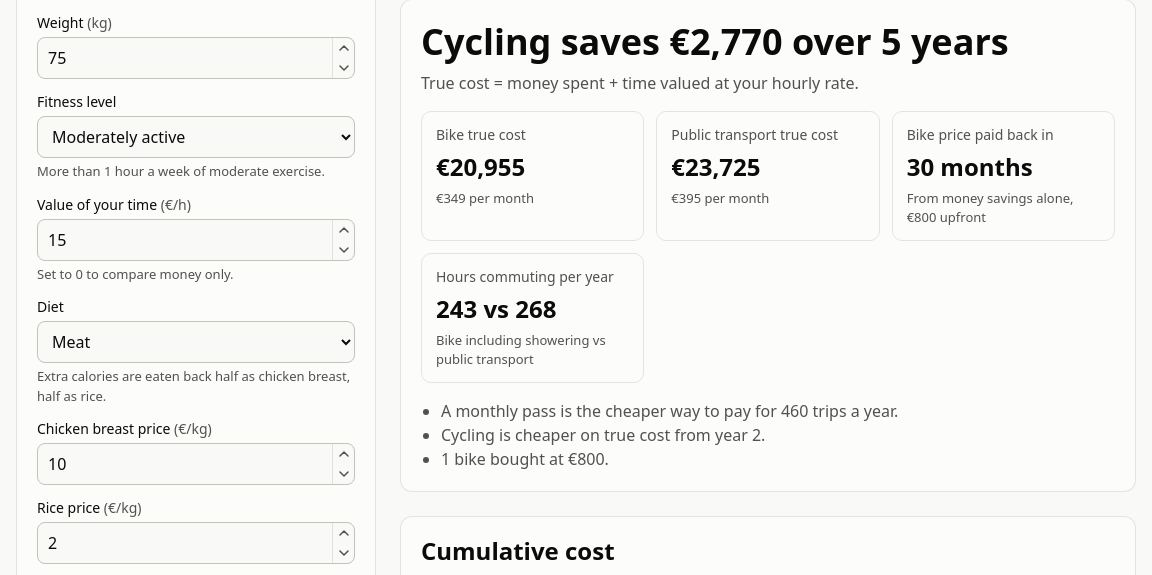
Test: App › prices extra food by the chosen diet
(page scrolled)
Select "Vegan" in the dropdown labelled "Diet": (196, 342) [37, 321, 355, 363]
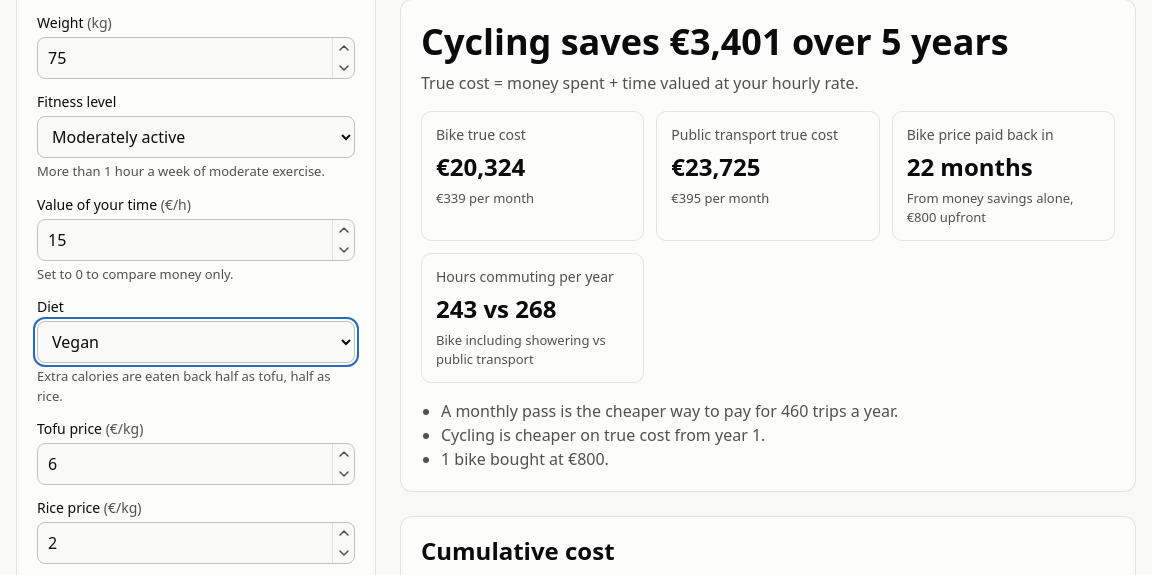
Expected: the heading "Cycling saves €3,401 over 5 years" is shown, [421, 17, 1009, 66]
Expected: the field labelled "Tofu price (€/kg)" holds "6", [37, 443, 355, 485]
